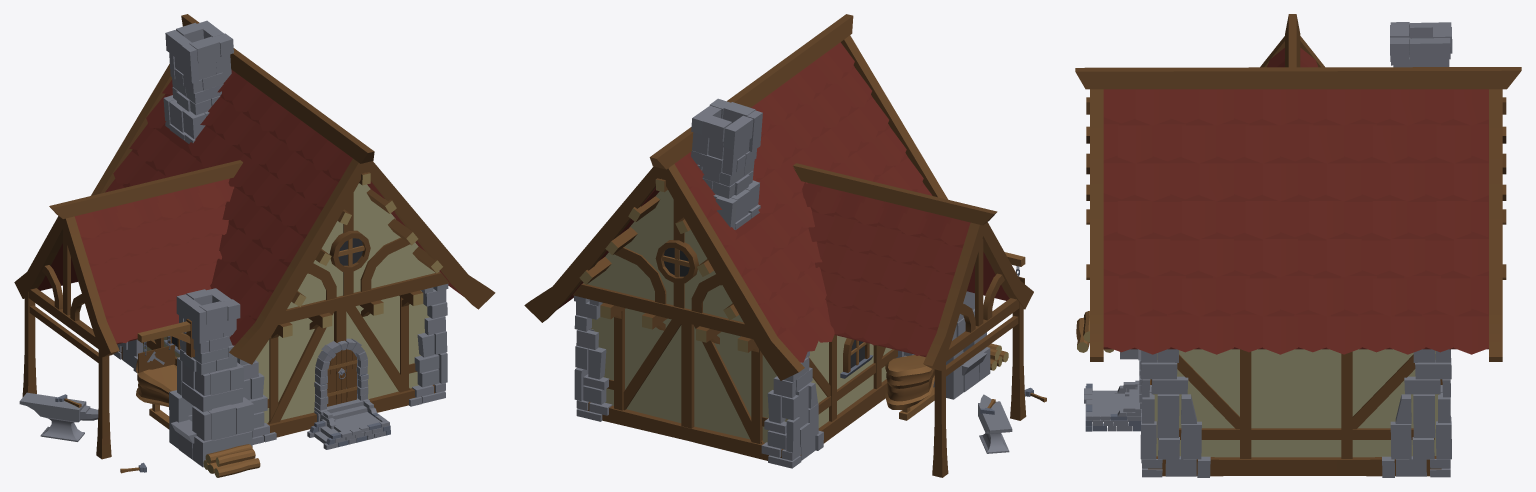
File: blacksmith.glb
The picture shows the model from 3 angles, left to right: view 1: azimuth 30°, elevation 25°; view 2: azimuth 150°, elevation 25°; view 3: azimuth 270°, elevation 25°; orthographic projection. The views are drawn at different scales.
Visible parts, largest first — view 1: Blacksmith; view 2: Blacksmith; view 3: Blacksmith.
Boxes of the visible parts, bbox=[...] form: Blacksmith: bbox=[14, 14, 495, 477]; Blacksmith: bbox=[524, 14, 1046, 477]; Blacksmith: bbox=[1075, 14, 1521, 477].
Size of the model in its own units: 8.42 by 6.5 by 7.11.
Materials: 1 (1 with a texture image).
